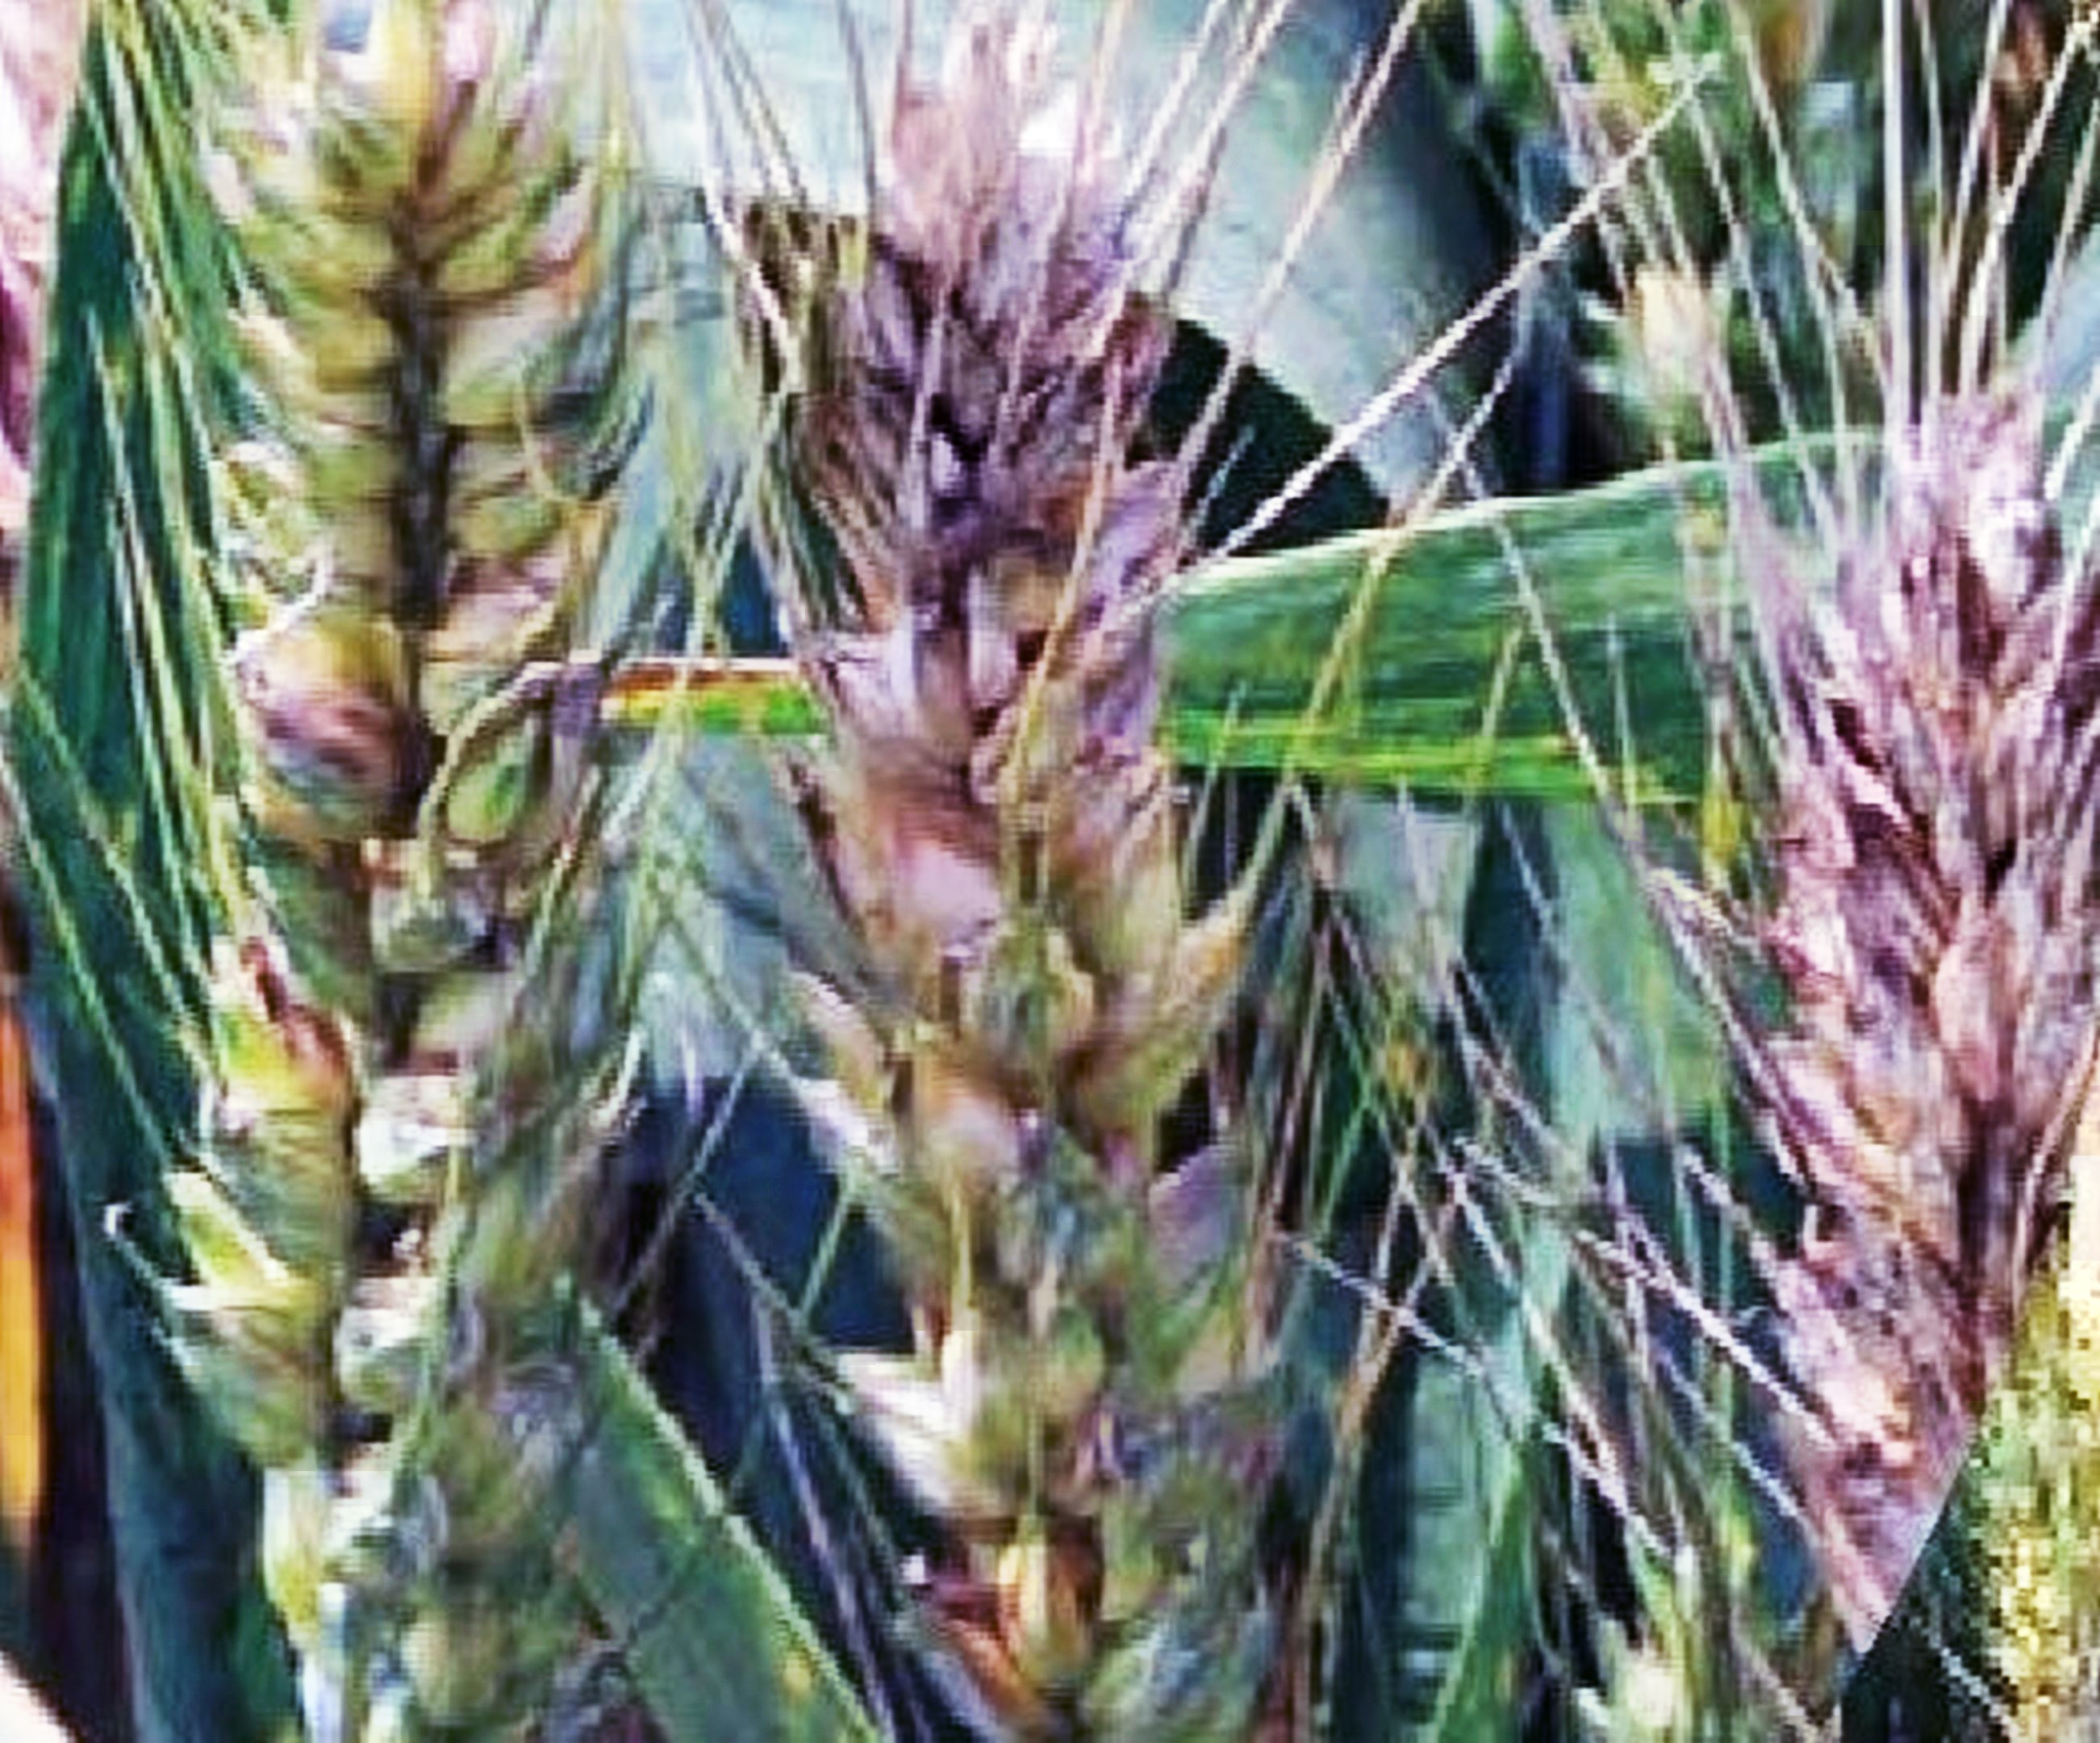Wheat scab: (750, 105, 1303, 1644), (155, 44, 628, 1668)
